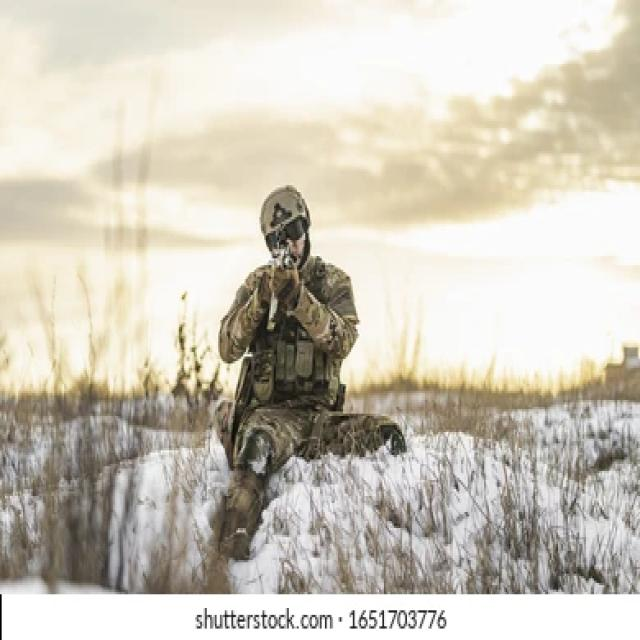soldier: (211, 185, 411, 564)
